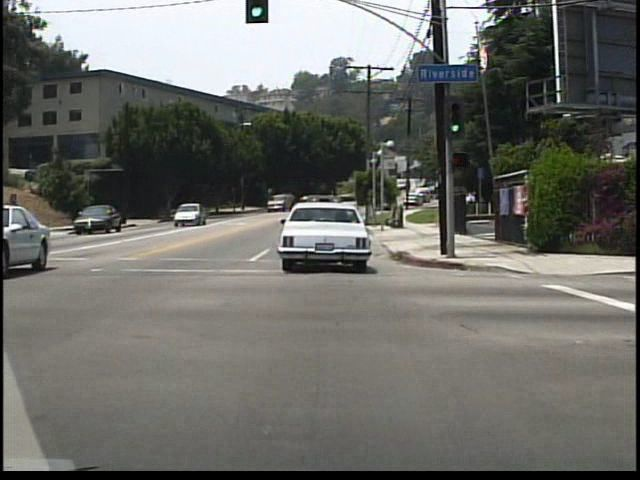person: (98, 205, 109, 231)
